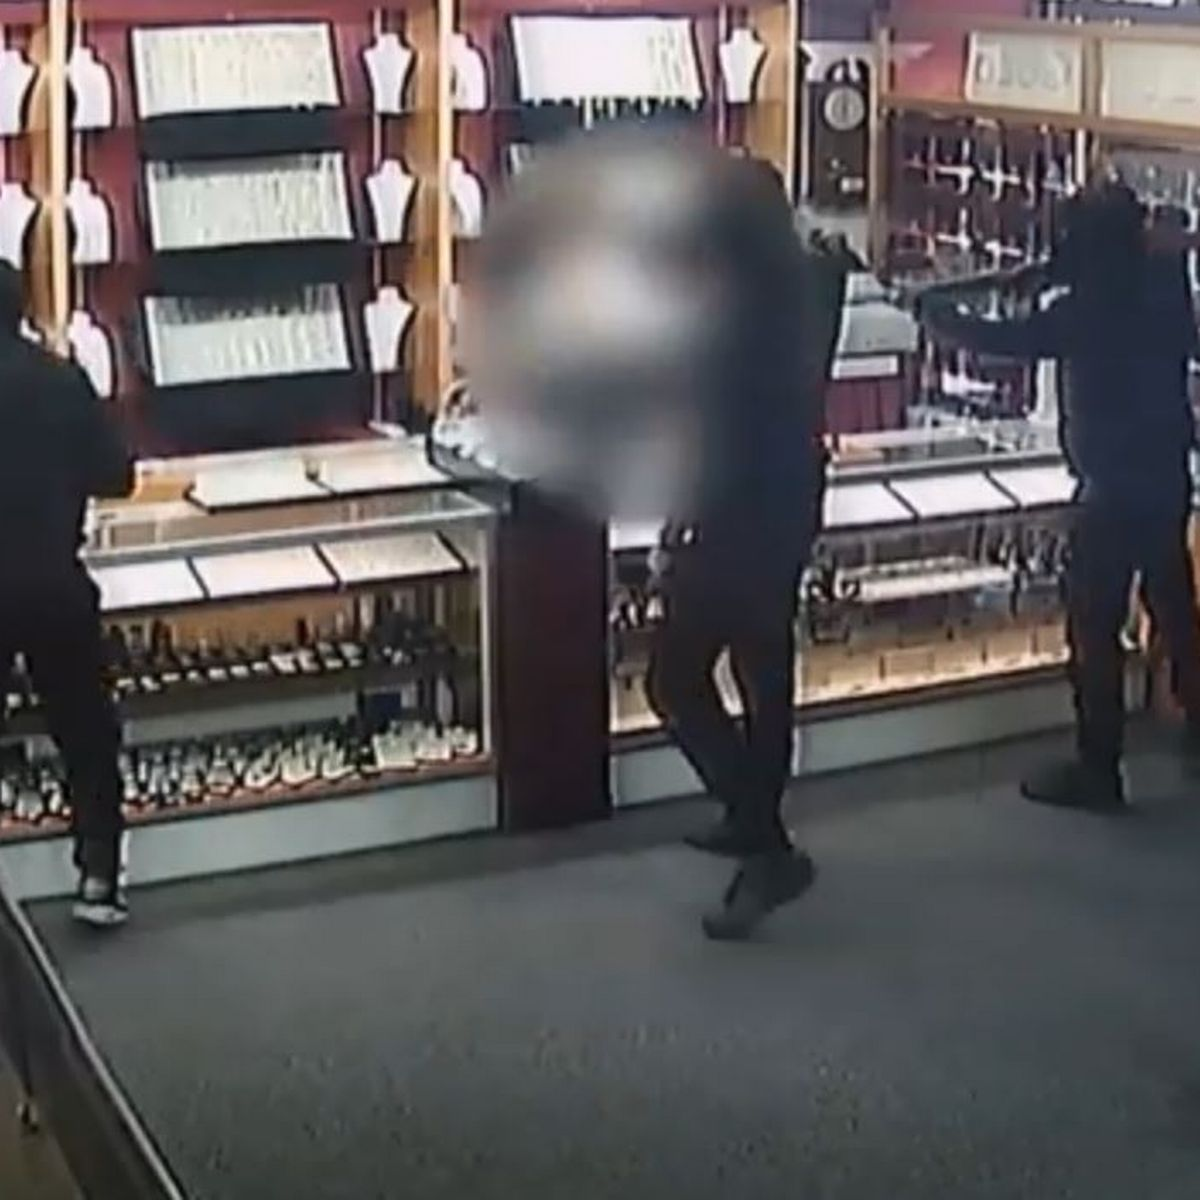gun: (878, 184, 979, 378)
